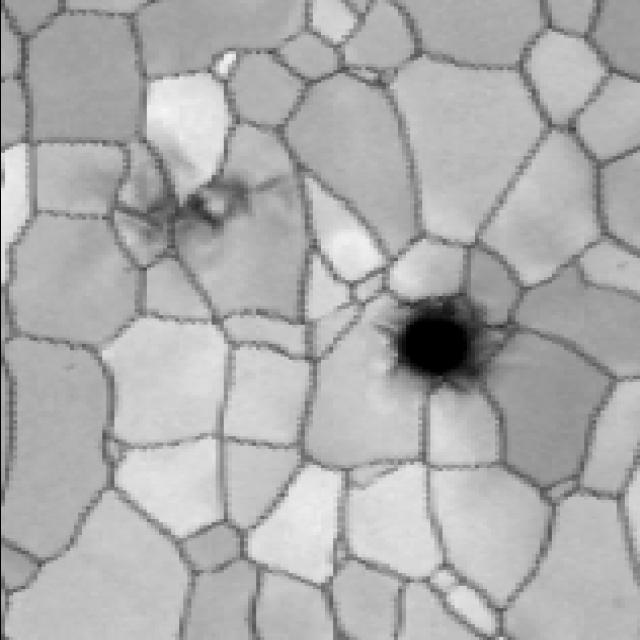good_void: (112, 131, 291, 259), (371, 285, 497, 395)
